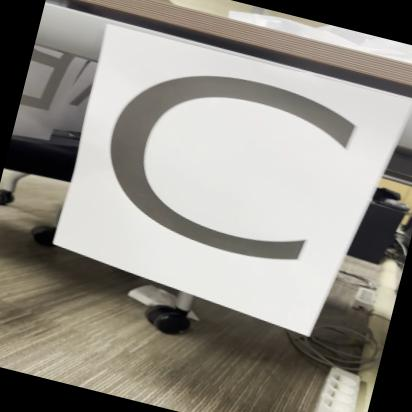seat: (44, 22, 382, 333)
